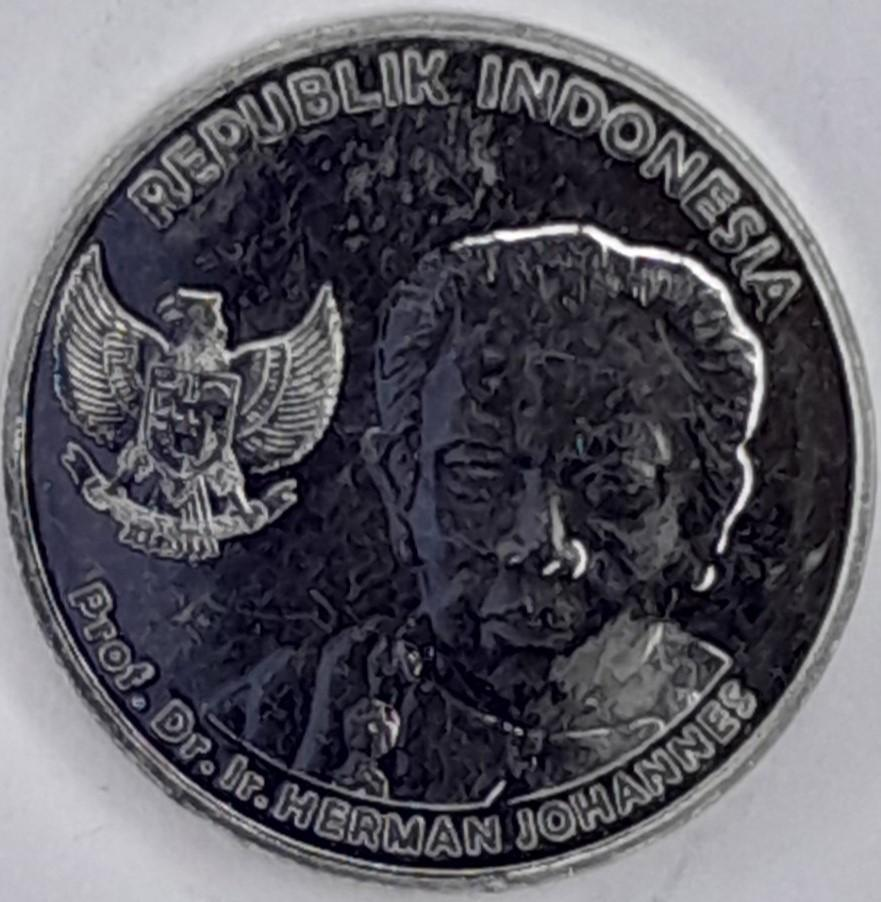coin_100_e2016: (0, 6, 880, 888)
